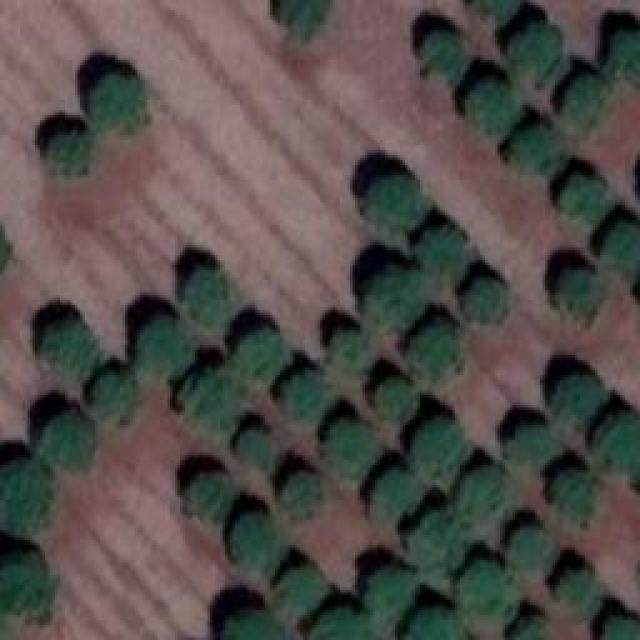Tree: (0, 459, 52, 532), (180, 370, 238, 430), (507, 25, 565, 83), (230, 515, 283, 578), (0, 555, 50, 620), (415, 418, 465, 483), (457, 563, 515, 618), (138, 317, 193, 375), (365, 273, 423, 328), (43, 323, 103, 373), (43, 410, 93, 470), (413, 515, 463, 573), (95, 77, 145, 135), (592, 415, 640, 475), (325, 420, 375, 475), (368, 178, 423, 228), (460, 468, 510, 521), (188, 267, 233, 325), (410, 325, 458, 378), (277, 568, 325, 618), (370, 473, 418, 523), (235, 330, 283, 380), (553, 378, 606, 423), (367, 570, 415, 618), (565, 75, 608, 128), (470, 82, 515, 130), (423, 32, 468, 80), (312, 607, 377, 640), (602, 223, 640, 278), (507, 528, 555, 571), (513, 128, 558, 173), (555, 473, 595, 523), (188, 475, 233, 518), (95, 375, 138, 420), (283, 373, 326, 418), (558, 272, 598, 320), (277, 0, 325, 40), (558, 180, 608, 218), (405, 610, 468, 640), (465, 280, 508, 323), (420, 230, 463, 273), (560, 570, 598, 618), (505, 425, 553, 463), (375, 378, 418, 418), (282, 473, 320, 518), (50, 135, 90, 175), (237, 430, 275, 470), (610, 32, 640, 80), (228, 615, 281, 640), (333, 335, 366, 368), (475, 0, 518, 20), (602, 617, 639, 640), (515, 620, 543, 640)
